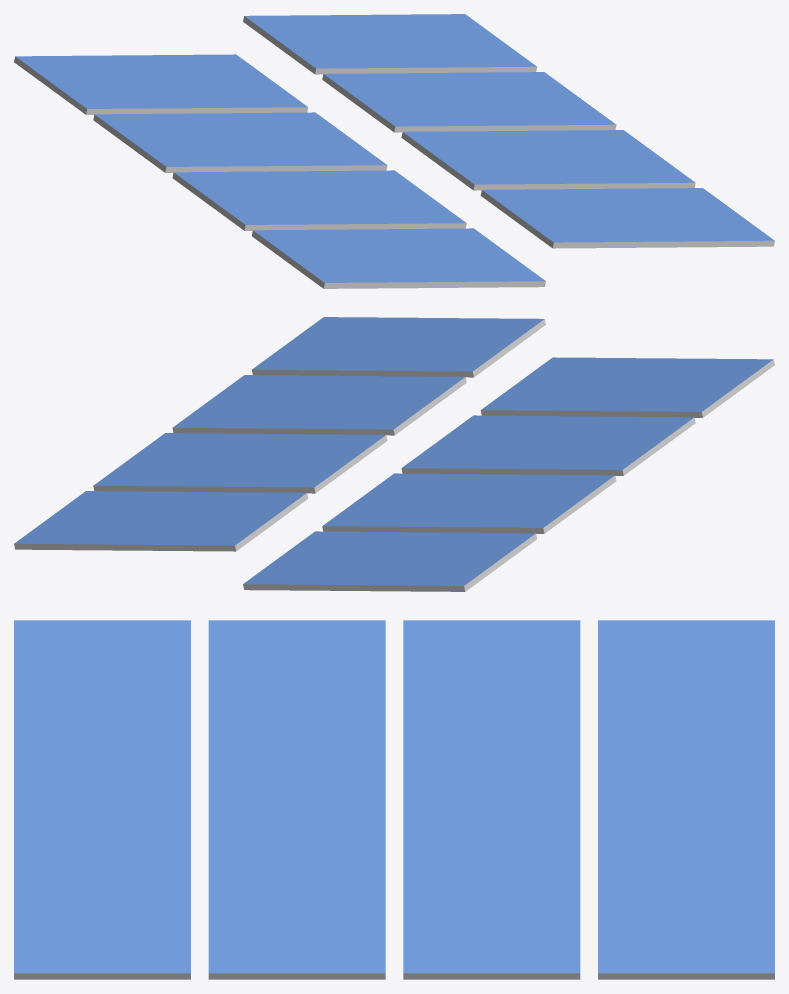
File: Solar.glb
3 views of the same model, one above another, from view 1: azimuth 30°, elevation 25°; view 2: azimuth 150°, elevation 25°; view 3: azimuth 270°, elevation 25° (orthographic). The views are drawn at different scales.
Visible parts, largest first — view 1: Solar Panel.001; view 2: Solar Panel.001; view 3: Solar Panel.001.
Boxes of the visible parts, x1,y1,x2,y2 form: Solar Panel.001: (14, 14, 774, 288); Solar Panel.001: (14, 317, 774, 591); Solar Panel.001: (14, 620, 774, 979).
Size of the model in its own units: 0.5136 by 0.0796 by 0.6105.
